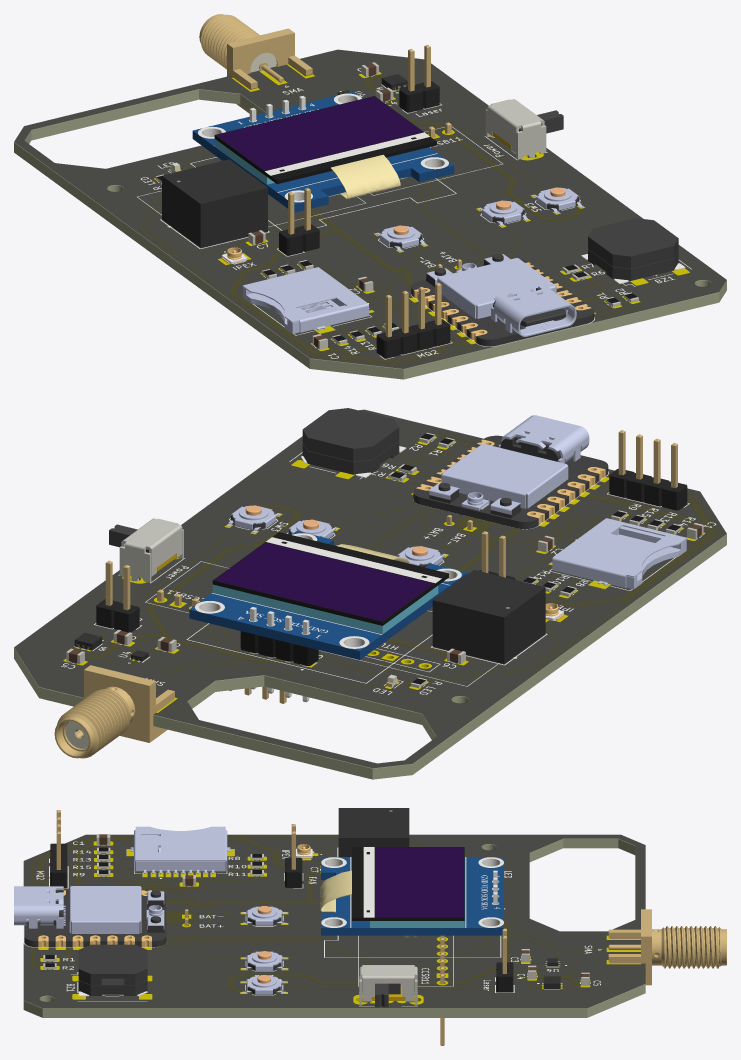
The model's file is kutsu-board-xiao-esp32c5c3.glb.
3 renders of one model, top to bottom at view 1: azimuth 30°, elevation 25°; view 2: azimuth 150°, elevation 25°; view 3: azimuth 270°, elevation 25°, orthographic. The views are drawn at different scales.
Parts seen in each view (by area): view 1: =>[0:1:1:43], =>[0:1:1:45], =>0:1:1:13, =>[0:1:1:23], =>[0:1:1:19], =>[0:1:1:29], =>[0:1:1:40], =>[0:1:1:33], =>[0:1:1:25], =>[0:1:1:17] (×2), =>[0:1:1:5], =>[0:1:1:31] (+2 smaller); view 2: =>[0:1:1:43], =>[0:1:1:45], =>0:1:1:13, =>[0:1:1:23], =>[0:1:1:19], =>[0:1:1:33], =>[0:1:1:40], =>[0:1:1:29], =>[0:1:1:25], =>[0:1:1:31], =>[0:1:1:5], =>[0:1:1:41] (+3 smaller); view 3: =>[0:1:1:43], =>[0:1:1:45], =>0:1:1:13, =>[0:1:1:23], =>[0:1:1:40], =>[0:1:1:33], =>[0:1:1:29], =>[0:1:1:25], =>[0:1:1:19], =>[0:1:1:5], =>[0:1:1:41], =>[0:1:1:15] (×3) (+2 smaller).
Boxes of the visible parts, <box> form: =>[0:1:1:43]: <box>14,49,726,368</box>; =>[0:1:1:45]: <box>14,50,726,379</box>; =>0:1:1:13: <box>192,91,454,212</box>; =>[0:1:1:23]: <box>411,254,594,346</box>; =>[0:1:1:19]: <box>162,159,267,247</box>; =>[0:1:1:29]: <box>242,267,368,333</box>; =>[0:1:1:40]: <box>139,64,689,365</box>; =>[0:1:1:33]: <box>199,14,312,113</box>; =>[0:1:1:25]: <box>581,218,685,283</box>; =>[0:1:1:17] (×2): <box>279,45,439,255</box>; =>[0:1:1:5]: <box>485,99,563,159</box>; =>[0:1:1:31]: <box>376,282,450,358</box>; =>[0:1:1:43]: <box>14,409,726,768</box>; =>[0:1:1:45]: <box>14,410,726,779</box>; =>0:1:1:13: <box>189,531,467,659</box>; =>[0:1:1:23]: <box>413,415,608,529</box>; =>[0:1:1:19]: <box>432,570,545,663</box>; =>[0:1:1:33]: <box>54,665,174,758</box>; =>[0:1:1:40]: <box>63,433,720,712</box>; =>[0:1:1:29]: <box>552,518,686,589</box>; =>[0:1:1:25]: <box>301,408,406,478</box>; =>[0:1:1:31]: <box>609,430,687,510</box>; =>[0:1:1:5]: <box>109,518,183,582</box>; =>[0:1:1:41]: <box>61,440,716,694</box>; =>[0:1:1:43]: <box>23,834,645,1008</box>; =>[0:1:1:45]: <box>23,835,645,1017</box>; =>0:1:1:13: <box>320,847,503,937</box>; =>[0:1:1:23]: <box>14,886,166,947</box>; =>[0:1:1:40]: <box>32,837,640,1004</box>; =>[0:1:1:33]: <box>608,909,726,985</box>; =>[0:1:1:29]: <box>130,826,230,873</box>; =>[0:1:1:25]: <box>78,944,147,996</box>; =>[0:1:1:19]: <box>338,808,409,856</box>; =>[0:1:1:5]: <box>359,965,417,1007</box>; =>[0:1:1:41]: <box>23,841,601,1006</box>; =>[0:1:1:15] (×3): <box>242,906,286,994</box>.
Bounding box in the file's own units: 0.0638 × 0.0188 × 0.1052.
